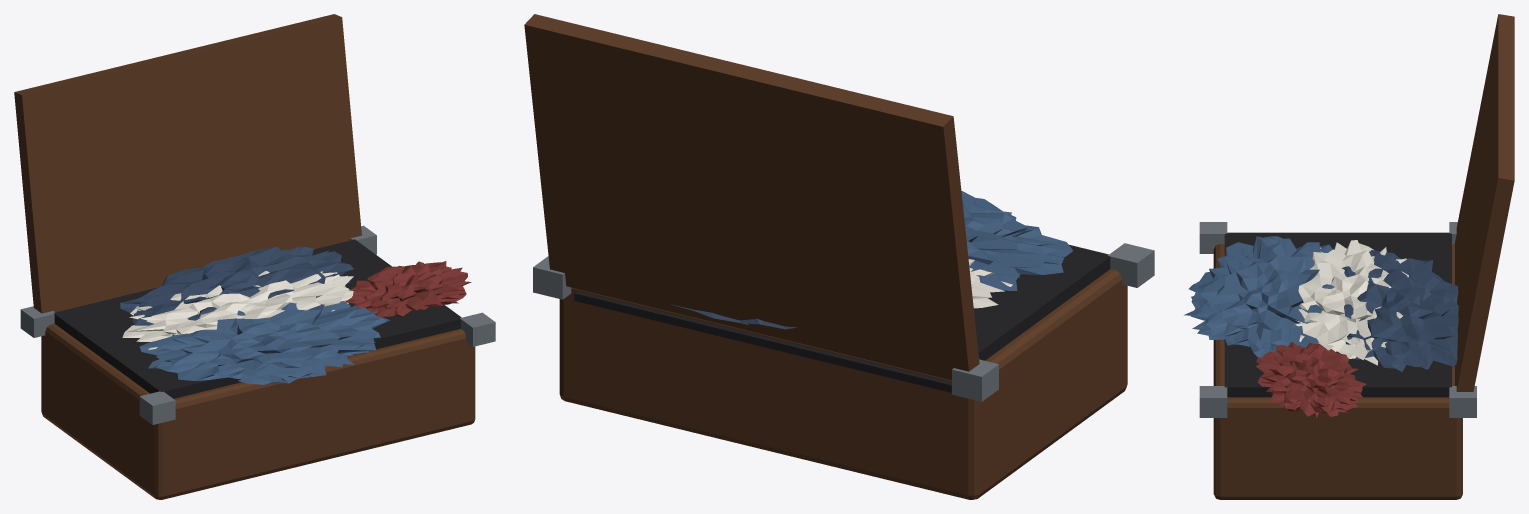
File: suitcase_open.glb
3 renders of one model, left to right at view 1: azimuth 30°, elevation 25°; view 2: azimuth 150°, elevation 25°; view 3: azimuth 270°, elevation 25°, orthographic. The views are drawn at different scales.
Visible parts, largest first — view 1: suitcase_open; view 2: suitcase_open; view 3: suitcase_open.
Part boxes in pixels (left/top/right/bottom): suitcase_open: left=14, top=14, right=495, bottom=499; suitcase_open: left=524, top=14, right=1154, bottom=499; suitcase_open: left=1184, top=14, right=1514, bottom=499.
Bounding box in the file's own units: 0.8107 × 0.6458 × 0.5976.
2 materials, 2 textured.
